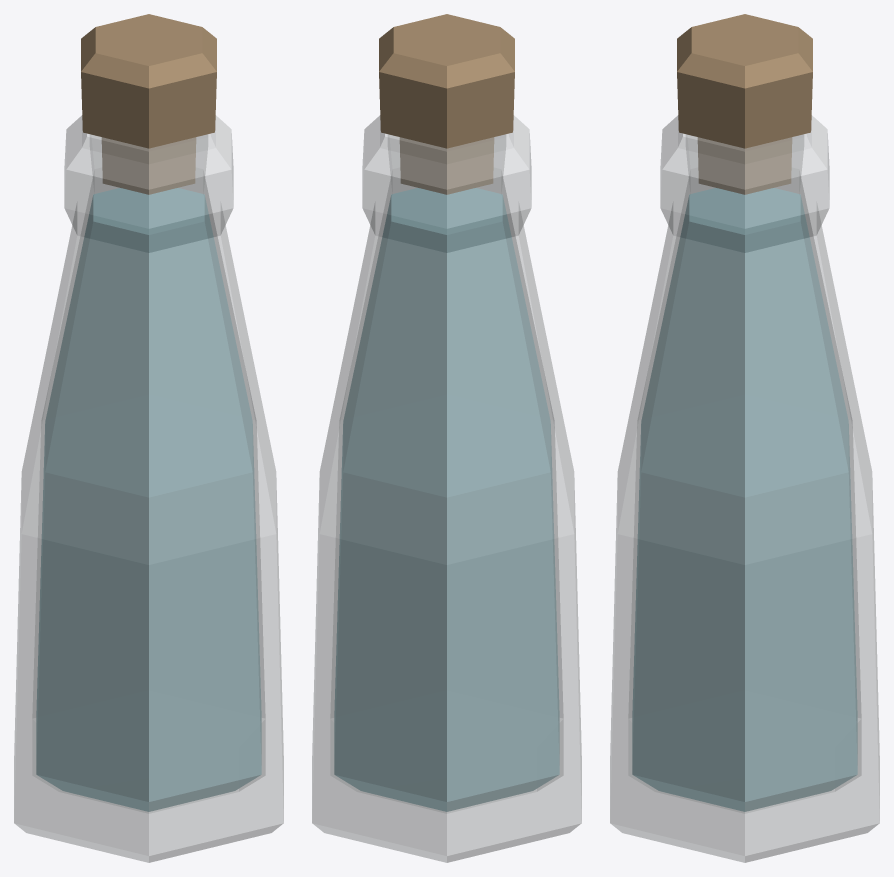
File: water_bottle.glb
3 renders of one model, left to right at view 1: azimuth 30°, elevation 25°; view 2: azimuth 150°, elevation 25°; view 3: azimuth 270°, elevation 25°, orthographic.
Visible parts, largest first — view 1: mesh_0, mesh_1, mesh_2; view 2: mesh_0, mesh_1, mesh_2; view 3: mesh_0, mesh_1, mesh_2.
Part boxes in pixels (x1,y1,x2,y2): mesh_0: (14,115,283,862); mesh_1: (36,188,261,811); mesh_2: (81,14,216,194); mesh_0: (312,115,581,862); mesh_1: (334,188,559,811); mesh_2: (379,14,514,194); mesh_0: (610,115,879,862); mesh_1: (632,188,857,811); mesh_2: (677,14,812,194).
Bounding box in the file's own units: 0.111 × 0.3 × 0.0961.
